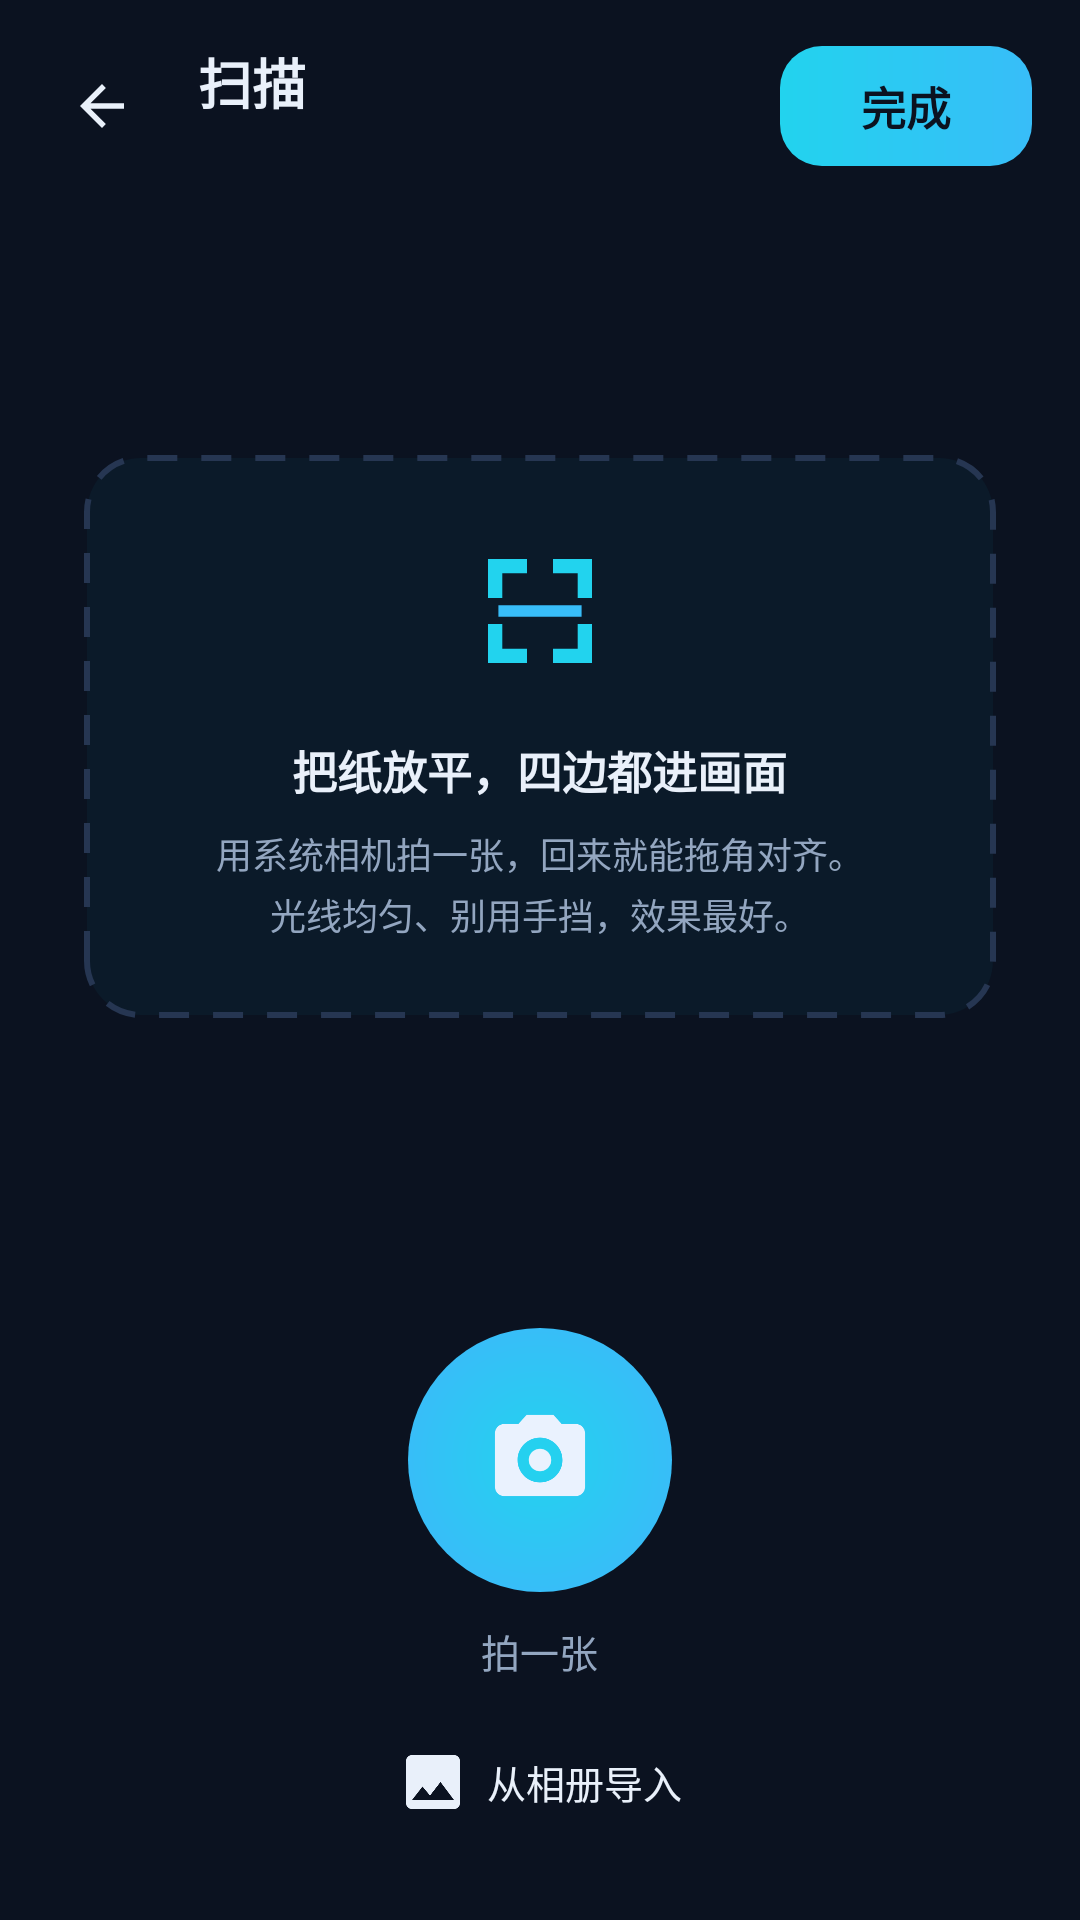

Screen size 1080×1920. Icon name, then its box in pixels as bbox=[x1, y1, x2, y2]:
scan: bbox=[488, 559, 592, 663]
返回: bbox=[80, 84, 124, 128]
